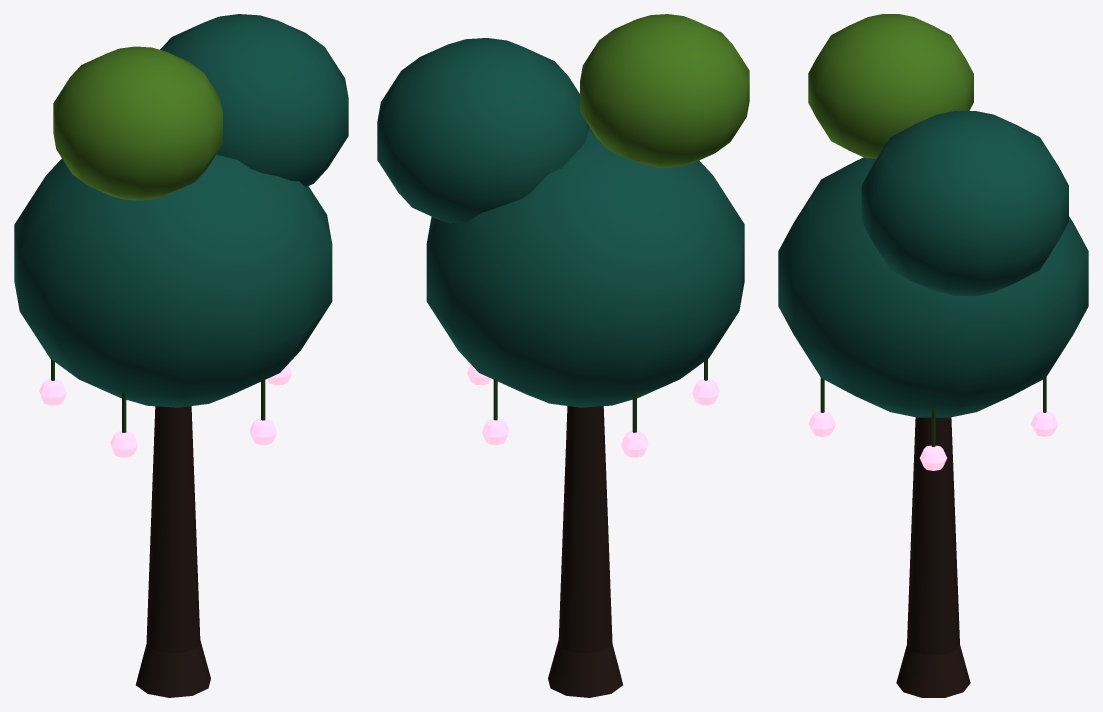
Rendered from tree_bulb.glb.
The picture shows the model from 3 angles, left to right: view 1: azimuth 30°, elevation 25°; view 2: azimuth 150°, elevation 25°; view 3: azimuth 270°, elevation 25°; orthographic projection. The views are drawn at different scales.
Visible parts, largest first — view 1: tree_bulb; view 2: tree_bulb; view 3: tree_bulb.
Part boxes in pixels (x1=…): tree_bulb: x1=14, y1=14, x2=348, y2=697; tree_bulb: x1=377, y1=14, x2=749, y2=697; tree_bulb: x1=778, y1=14, x2=1088, y2=697.
Size of the model in its own units: 3.28 by 6.58 by 2.92.
